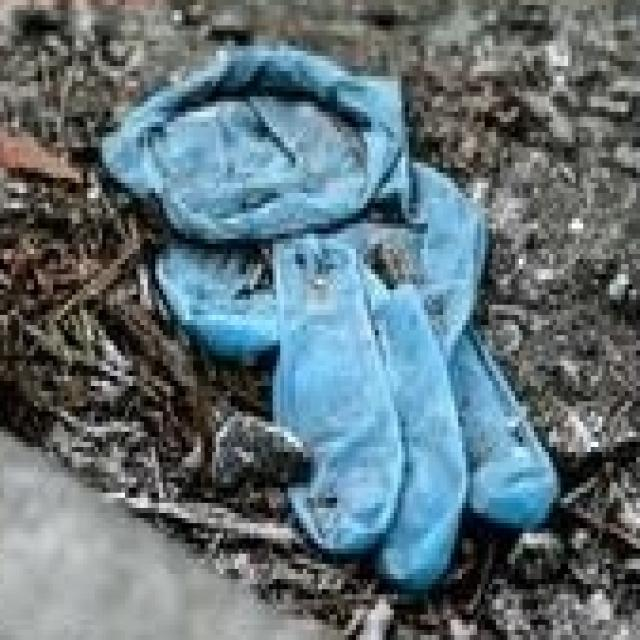b3: (95, 22, 581, 590)
